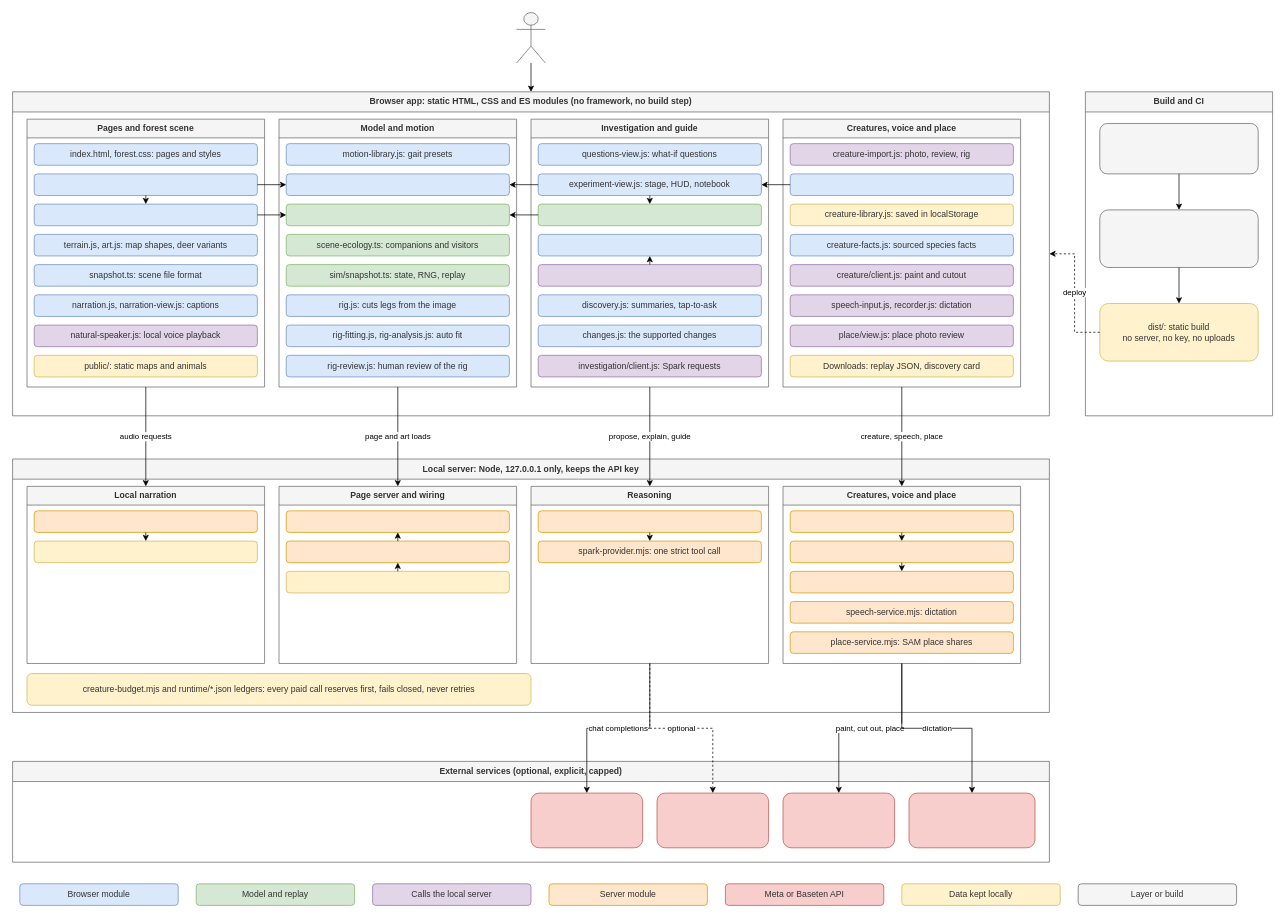
Some shapes in this 1285 by 918 pixel diagram are drawn without their labels. Each missing label, with the centre of its shape:
".env: key and switches (git-ignored)" goes at point 397,582.
"Baseten Muse Spark Open optional, not tested live" goes at point 712,820.
"collection-view.js: My creatures" goes at point 901,184.
"controller.ts: scene state and snapshots" goes at point 145,214.
"creature-api.mjs: request checks, limits" goes at point 901,521.
"creature-pipeline.mjs: paint, then cut out" goes at point 901,551.
"creature-server.mjs: wires services from .env" goes at point 397,551.
"engine.ts: seeded ecosystem rules" goes at point 397,214.
"evidence.js: evidence packet, cards" goes at point 649,245.
"experiment.ts: paired models, replay" goes at point 649,214.
"GitHub Actions npm ci, test (135 checks), check, build" goes at point 1178,238.
"GitHub: S2800-0/microverse feature branches, pull requests" goes at point 1178,148.
"guide.js: local guide, narrows replies" goes at point 649,275.
"Learner or teacher" goes at point 530,37.
"Meta Muse Image 1.0 and SAM 3.1" goes at point 838,820.
"Meta Muse Spark 1.3 chat completions, tool calls" goes at point 586,820.
"Meta speech-to-text question dictation" goes at point 971,820.
"meta-provider.mjs: Muse Image and SAM calls" goes at point 901,582.
"natural-voice.mjs: Kokoro Heart voice" goes at point 145,521.
"preview.mjs: static files, Host/Origin checks" goes at point 397,521.
"puppet-motion.js: draws legs and bodies" goes at point 397,184.
"runtime/kokoro-model: local model files" goes at point 145,551.
"spark-service.mjs: propose, explain, guide" goes at point 649,521.
"view.js: forest loop, camera, actors" goes at point 145,184.
